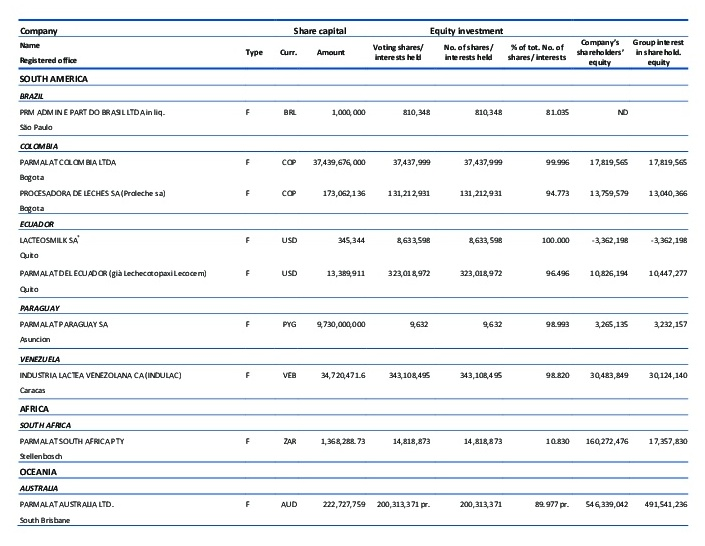table: (0, 0, 705, 546)
